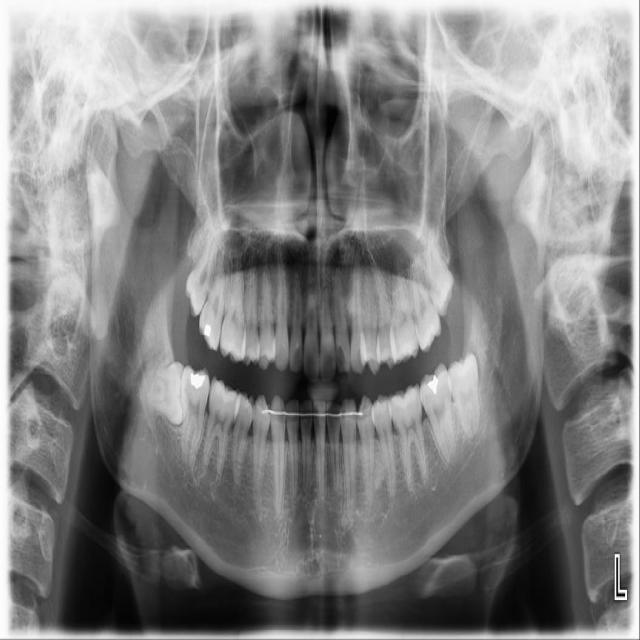Filling: (423, 372, 443, 397), (190, 372, 207, 390), (199, 323, 214, 338)
impacted tooth: (185, 223, 224, 316), (449, 352, 482, 437), (138, 362, 182, 420), (426, 231, 452, 311)
